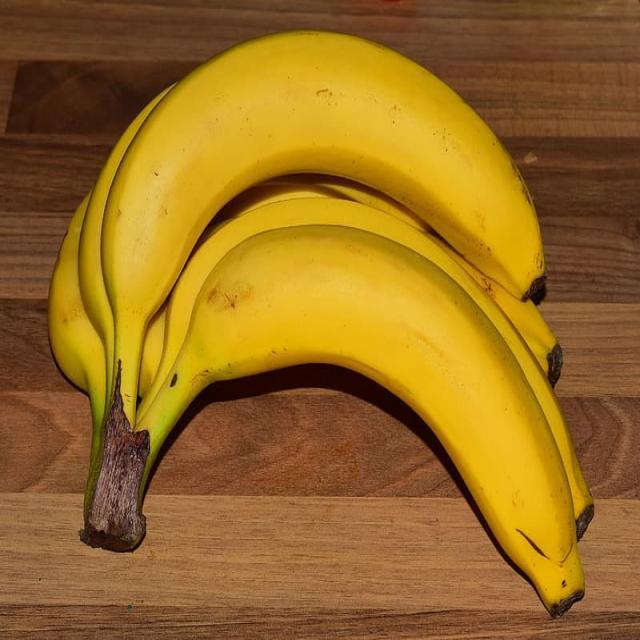Banana: (42, 23, 600, 631)
